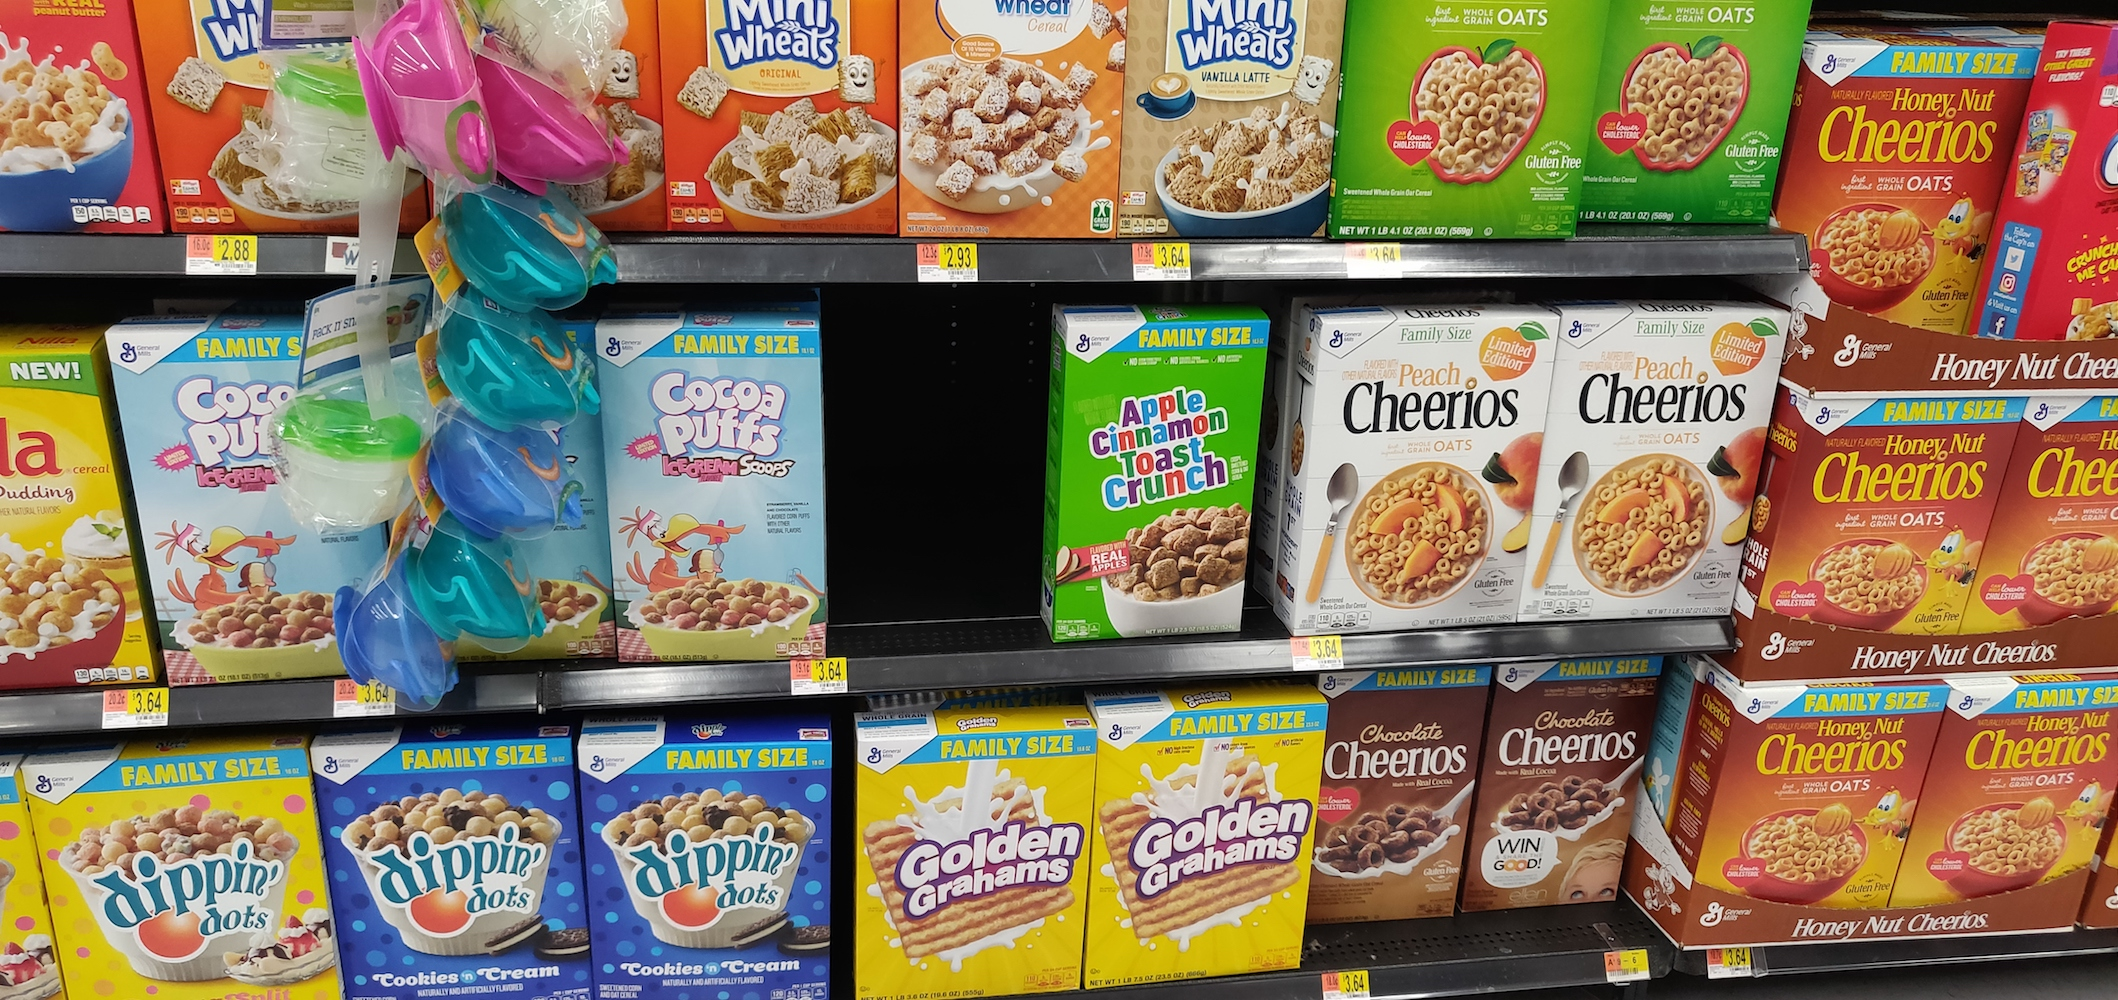Cocoa Puffs Ice Cream-563408546: (601, 328, 833, 657), (119, 330, 301, 676)
